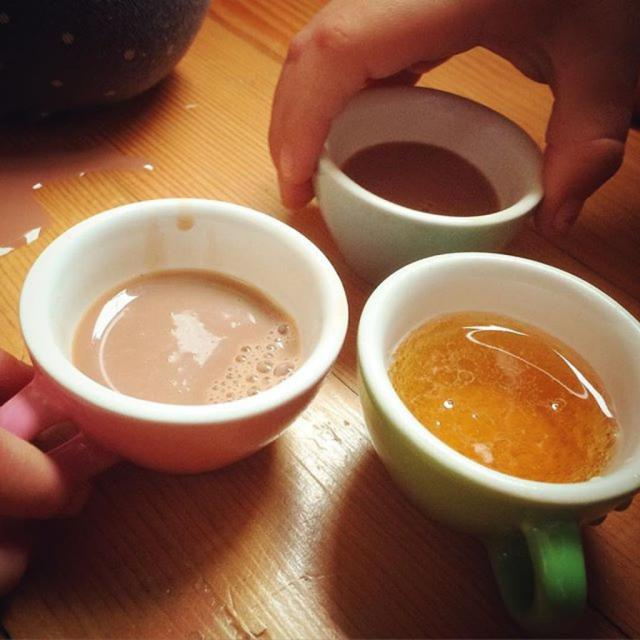Tea: (390, 312, 618, 482), (73, 267, 296, 402), (337, 143, 505, 218)
